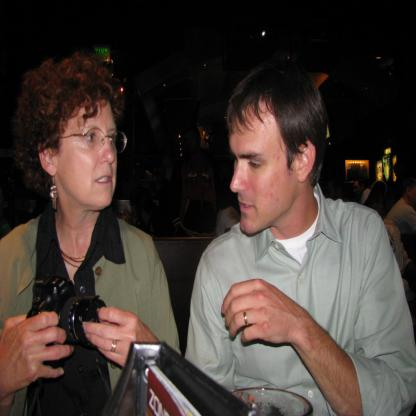Camera: (34, 282, 105, 363)
